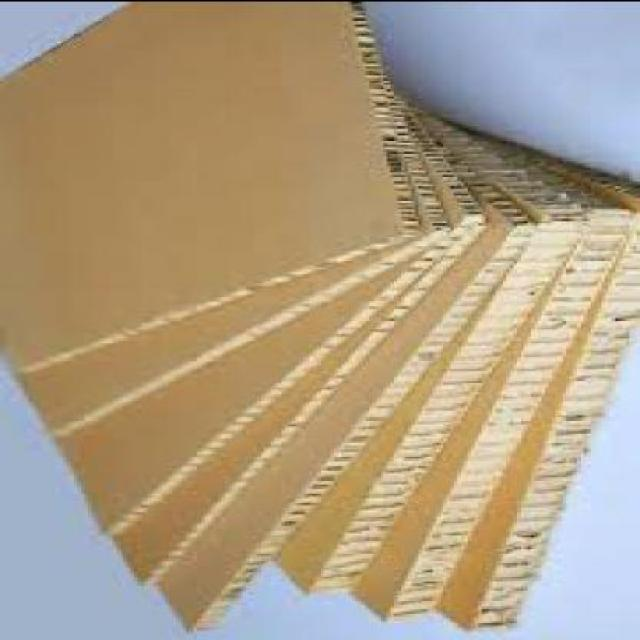CARDBOARD: (49, 79, 489, 538), (151, 109, 531, 633), (109, 98, 485, 587), (0, 2, 415, 374), (274, 109, 584, 596), (25, 89, 446, 437), (348, 127, 629, 624), (433, 120, 636, 634)
